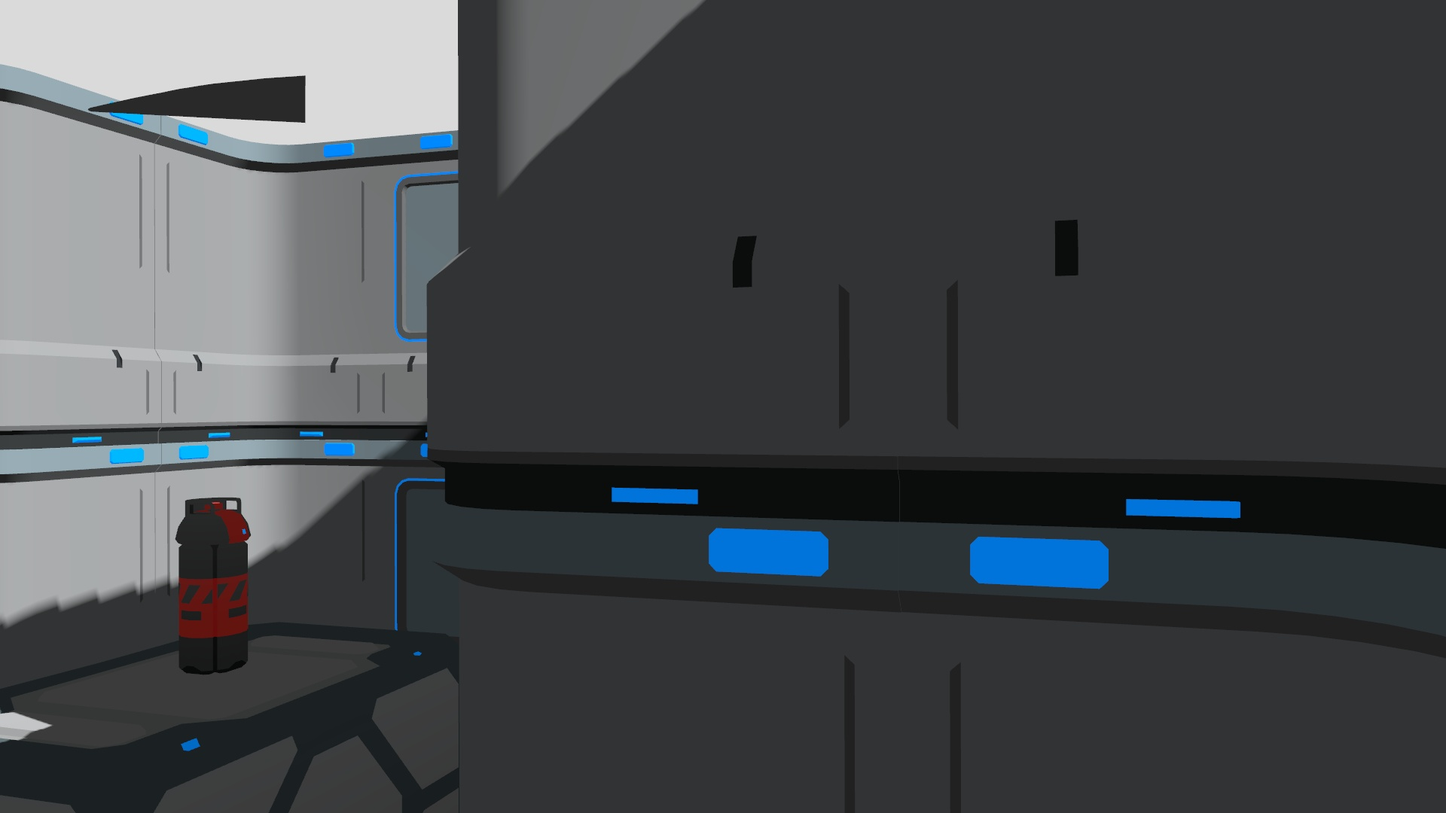red_barrel: (170, 489, 259, 679)
